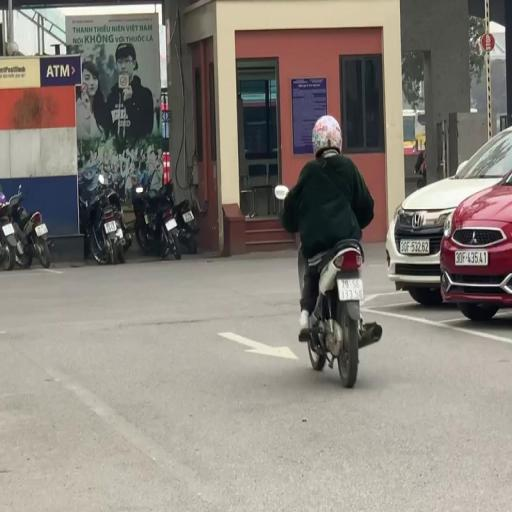bike: (277, 112, 383, 390)
numberplate: (334, 274, 365, 304), (34, 220, 49, 238), (164, 216, 178, 232), (104, 219, 116, 235), (3, 222, 15, 237), (182, 209, 194, 223)
with helmet: (307, 114, 341, 156)
